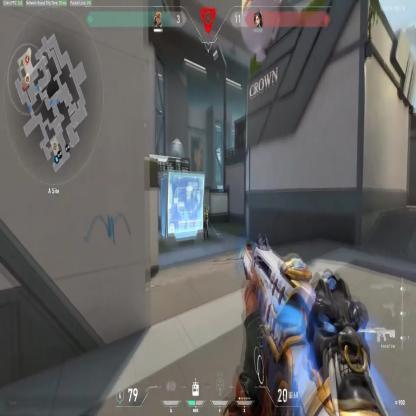enemy: (203, 205, 209, 239)
enemy_head: (204, 205, 206, 211)
